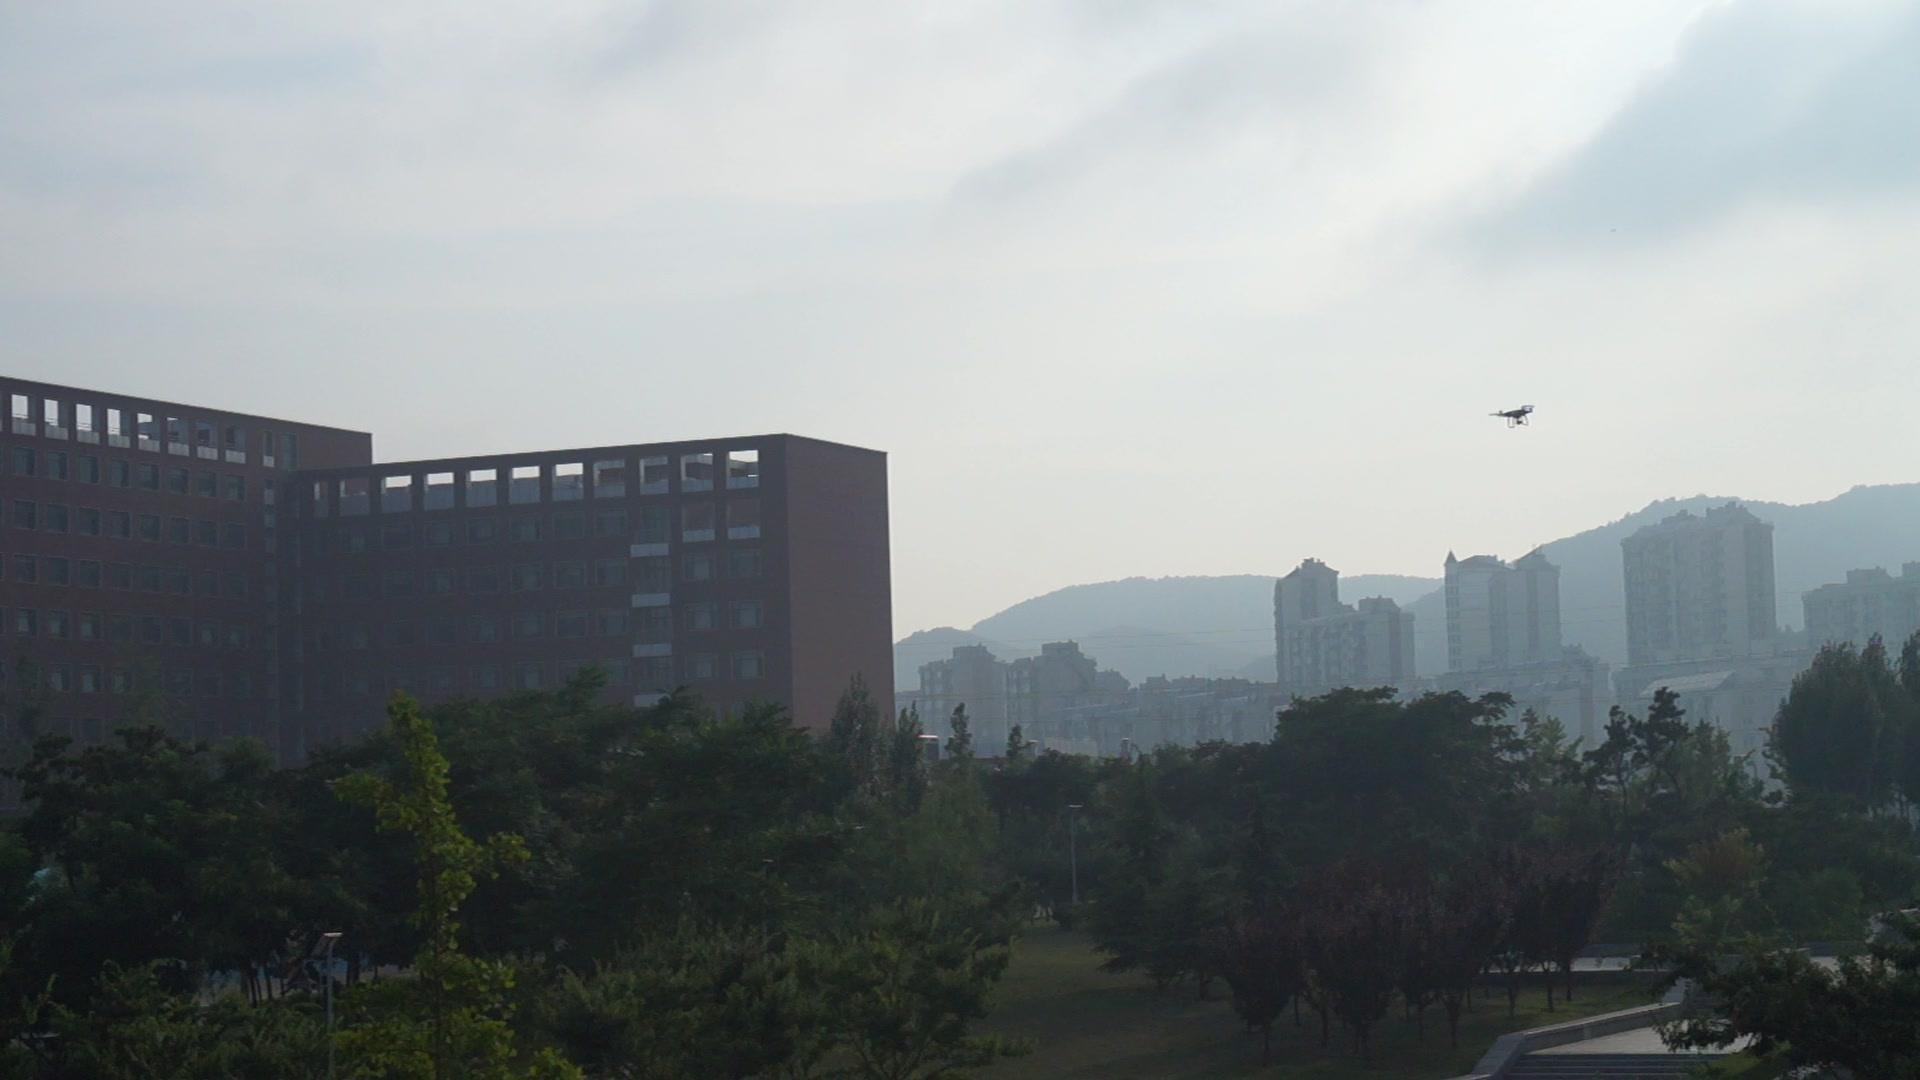UAV: (1487, 405, 1538, 429)
